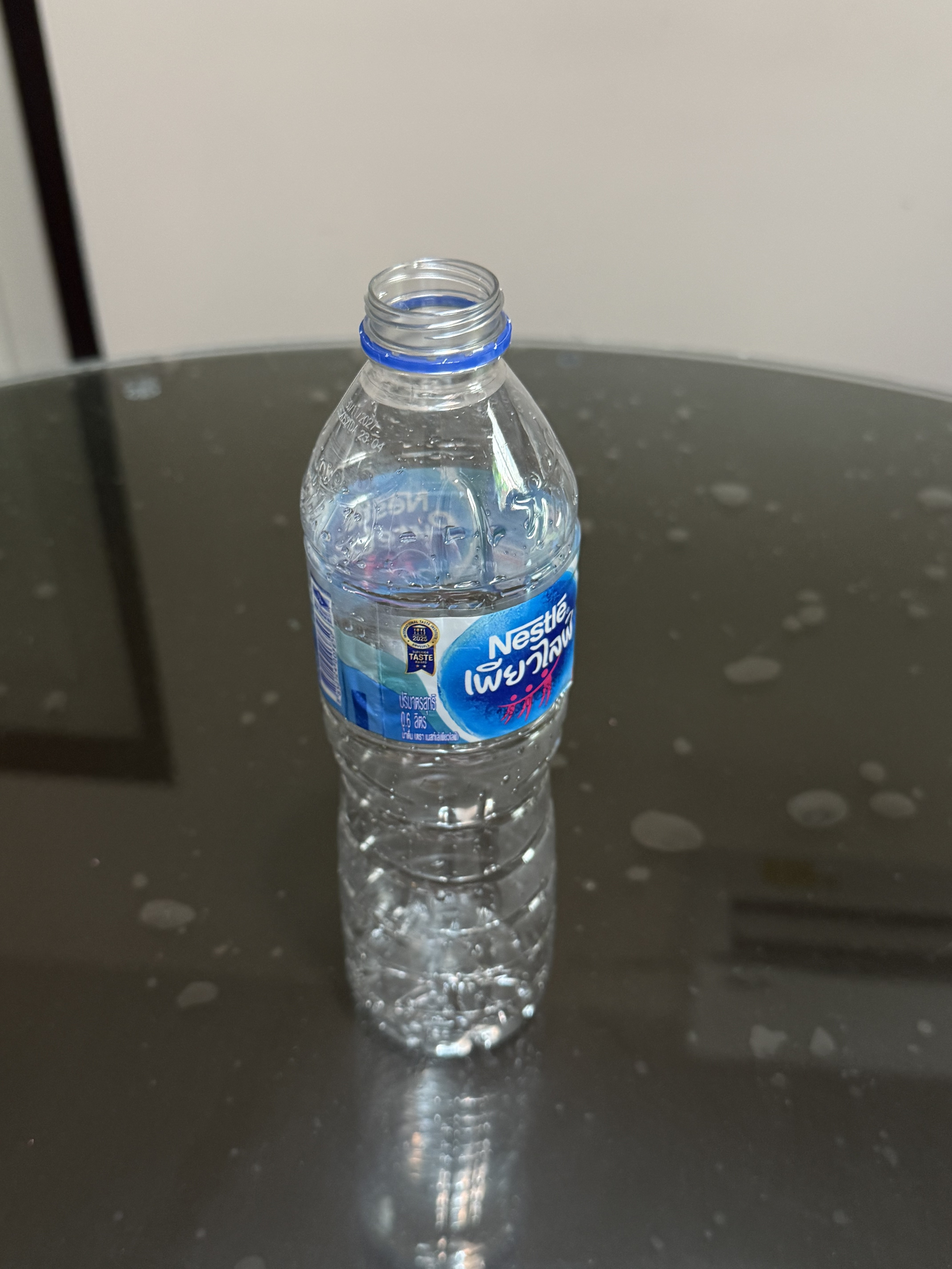no_cap: (353, 254, 516, 377)
